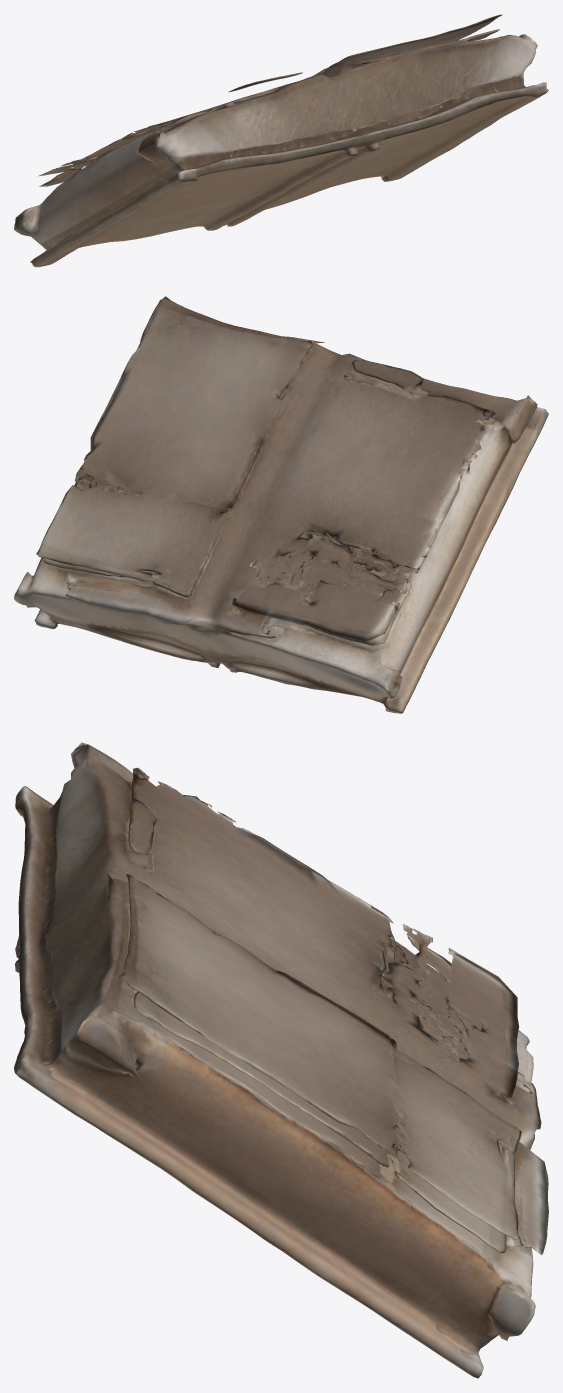
Rendered from Torn_Paper_Stack_1225035953_texture.fbx.
3 views of the same model, one above another, from view 1: azimuth 30°, elevation 25°; view 2: azimuth 150°, elevation 25°; view 3: azimuth 270°, elevation 25° (orthographic). The views are drawn at different scales.
Visible parts, largest first — view 1: Mesh1_Mesh1.136; view 2: Mesh1_Mesh1.136; view 3: Mesh1_Mesh1.136.
Part boxes in pixels (bbox=[...]): Mesh1_Mesh1.136: bbox=[14, 14, 548, 267]; Mesh1_Mesh1.136: bbox=[14, 296, 548, 713]; Mesh1_Mesh1.136: bbox=[14, 742, 548, 1378].
Size of the model in its own units: 200 by 126 by 155.
1 material, 1 textured.
